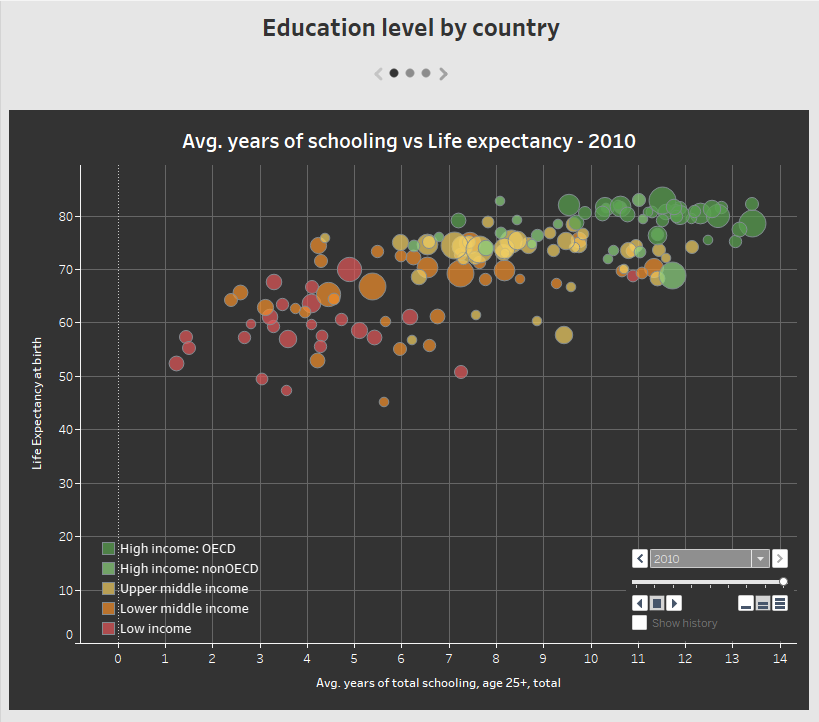

The dashboard page shown, as its layout file describes it:
{"tool":"tableau","page":{"name":"Schooling and Life length","canvas":[800,600],"ordinal":0},"visuals":[{"type":"worksheet","box":[0,0,800,600]},{"type":"worksheet","param":"horz","box":[8,8,784,584]},{"type":"worksheet","box":[8,8,784,584]},{"type":"worksheet","title":"Years of school vs Life Expectancy","mark":"Circle","rows":["Life Expectancy at birth"],"cols":["Avg. years of total schooling, age 25+, total"],"box":[8,8,784,584]},{"type":"worksheet","title":"Years of school vs Life Expectancy","mark":"Circle","rows":["Life Expectancy at birth"],"cols":["Avg. years of total schooling, age 25+, total"],"param":"[federated.008o9q703soxq710otkd60qrcww6].[none:Income Group:nk]","box":[89,428,188,100]},{"type":"worksheet","title":"Years of school vs Life Expectancy","mark":"Circle","rows":["Life Expectancy at birth"],"cols":["Avg. years of total schooling, age 25+, total"],"box":[617,439,168,92]}]}

Visuals, with their boxes on the page's 800x600 design canvas (x1, y1, x2, y2). These are canvas units, not pixel positions in the 819x722 screenshot, which may show the page scaled, cropped or inside an application window:
worksheet: [0, 0, 800, 600]
worksheet: [8, 8, 792, 592]
worksheet: [8, 8, 792, 592]
"Years of school vs Life Expectancy" worksheet (Circle marks): [8, 8, 792, 592]
"Years of school vs Life Expectancy" worksheet (Circle marks): [89, 428, 277, 528]
"Years of school vs Life Expectancy" worksheet (Circle marks): [617, 439, 785, 531]
